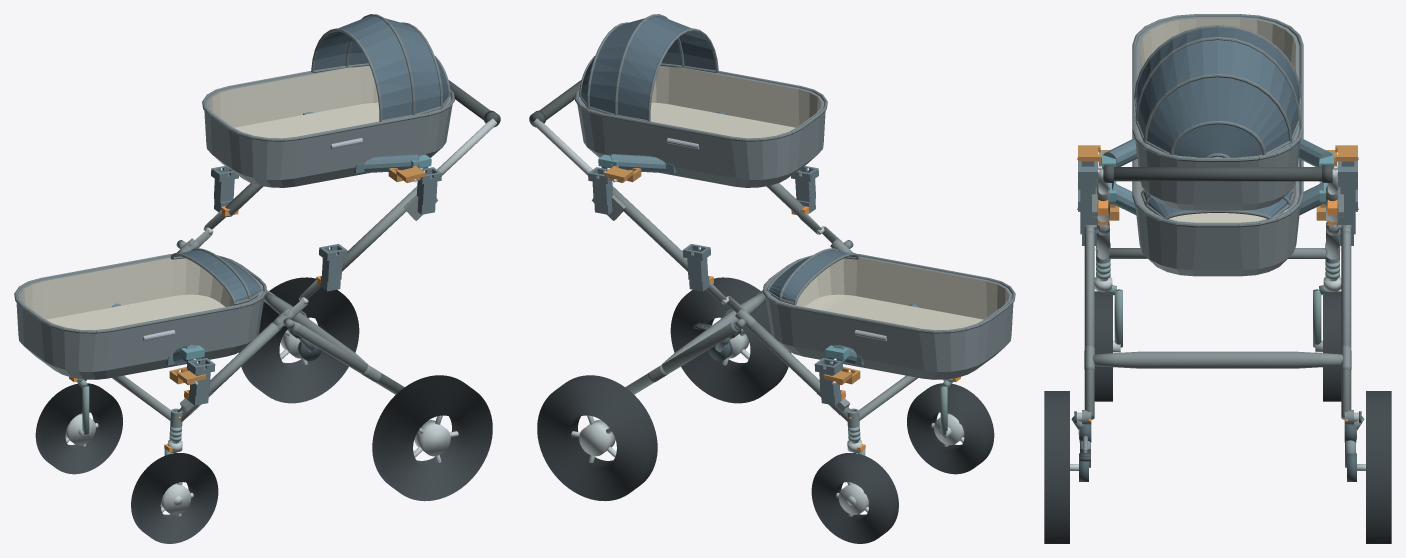
Rendered from D03_w650_state1_wheel_L.glb.
3 views of the same model, side by side, from view 1: azimuth 30°, elevation 25°; view 2: azimuth 150°, elevation 25°; view 3: azimuth 270°, elevation 25° (orthographic). The views are drawn at different scales.
Visible parts, largest first — view 1: D03_Upper, D03_Lower, RL_tire.008, RR_tire.008, FL_tire.008, FR_tire.008, V46_rear_leg_-1.009, main_lower_-1.009, main_upper_-1.009, D03_Upper_Mount_H, Universal_Cabin_Receiver_M_-1, RL_sealed_hub.008 (+8 smaller); view 2: D03_Upper, D03_Lower, RR_tire.008, RL_tire.008, FR_tire.008, FL_tire.008, V46_rear_leg_1.009, main_lower_1.009, main_upper_1.009, D03_Upper_Mount_H, Universal_Cabin_Receiver_M_1, RR_sealed_hub.008 (+8 smaller); view 3: D03_Upper, D03_Lower, V46_rearbar.009, RL_tire.008, RR_tire.008, round_handle.008, FL_tire.008, FR_tire.008, V46_rear_leg_1.009, V46_rear_leg_-1.009, D03_Upper_Mount_H, D03_Lower_Mount_L (+7 smaller).
Boxes of the visible parts, bbox=[...] form: D03_Upper: bbox=[202, 14, 454, 187]; D03_Lower: bbox=[14, 248, 266, 379]; RL_tire.008: bbox=[372, 375, 492, 501]; RR_tire.008: bbox=[238, 277, 359, 403]; FL_tire.008: bbox=[131, 453, 218, 543]; FR_tire.008: bbox=[35, 383, 122, 474]; V46_rear_leg_-1.009: bbox=[291, 322, 404, 394]; main_lower_-1.009: bbox=[177, 322, 283, 421]; main_upper_-1.009: bbox=[342, 186, 417, 271]; D03_Upper_Mount_H: bbox=[303, 111, 431, 173]; Universal_Cabin_Receiver_M_-1: bbox=[319, 244, 347, 291]; RL_sealed_hub.008: bbox=[414, 420, 450, 456]; D03_Upper: bbox=[575, 14, 827, 187]; D03_Lower: bbox=[763, 248, 1015, 379]; RR_tire.008: bbox=[537, 375, 657, 501]; RL_tire.008: bbox=[670, 277, 791, 403]; FR_tire.008: bbox=[811, 453, 898, 543]; FL_tire.008: bbox=[907, 383, 994, 474]; V46_rear_leg_1.009: bbox=[625, 322, 738, 394]; main_lower_1.009: bbox=[746, 322, 852, 421]; main_upper_1.009: bbox=[612, 186, 687, 271]; D03_Upper_Mount_H: bbox=[598, 111, 726, 173]; Universal_Cabin_Receiver_M_1: bbox=[682, 244, 710, 291]; RR_sealed_hub.008: bbox=[579, 420, 615, 456]; D03_Upper: bbox=[1132, 14, 1303, 210]; D03_Lower: bbox=[1132, 131, 1303, 276]; V46_rearbar.009: bbox=[1092, 351, 1343, 368]; RL_tire.008: bbox=[1044, 391, 1069, 543]; RR_tire.008: bbox=[1366, 391, 1391, 543]; round_handle.008: bbox=[1103, 167, 1332, 181]; FL_tire.008: bbox=[1094, 291, 1112, 401]; FR_tire.008: bbox=[1323, 291, 1341, 401]; V46_rear_leg_1.009: bbox=[1341, 231, 1351, 419]; V46_rear_leg_-1.009: bbox=[1084, 231, 1094, 419]; D03_Upper_Mount_H: bbox=[1098, 138, 1337, 169]; D03_Lower_Mount_L: bbox=[1108, 181, 1327, 214].
Bounding box in the file's own units: 1.39 × 1.33 × 0.8171.
